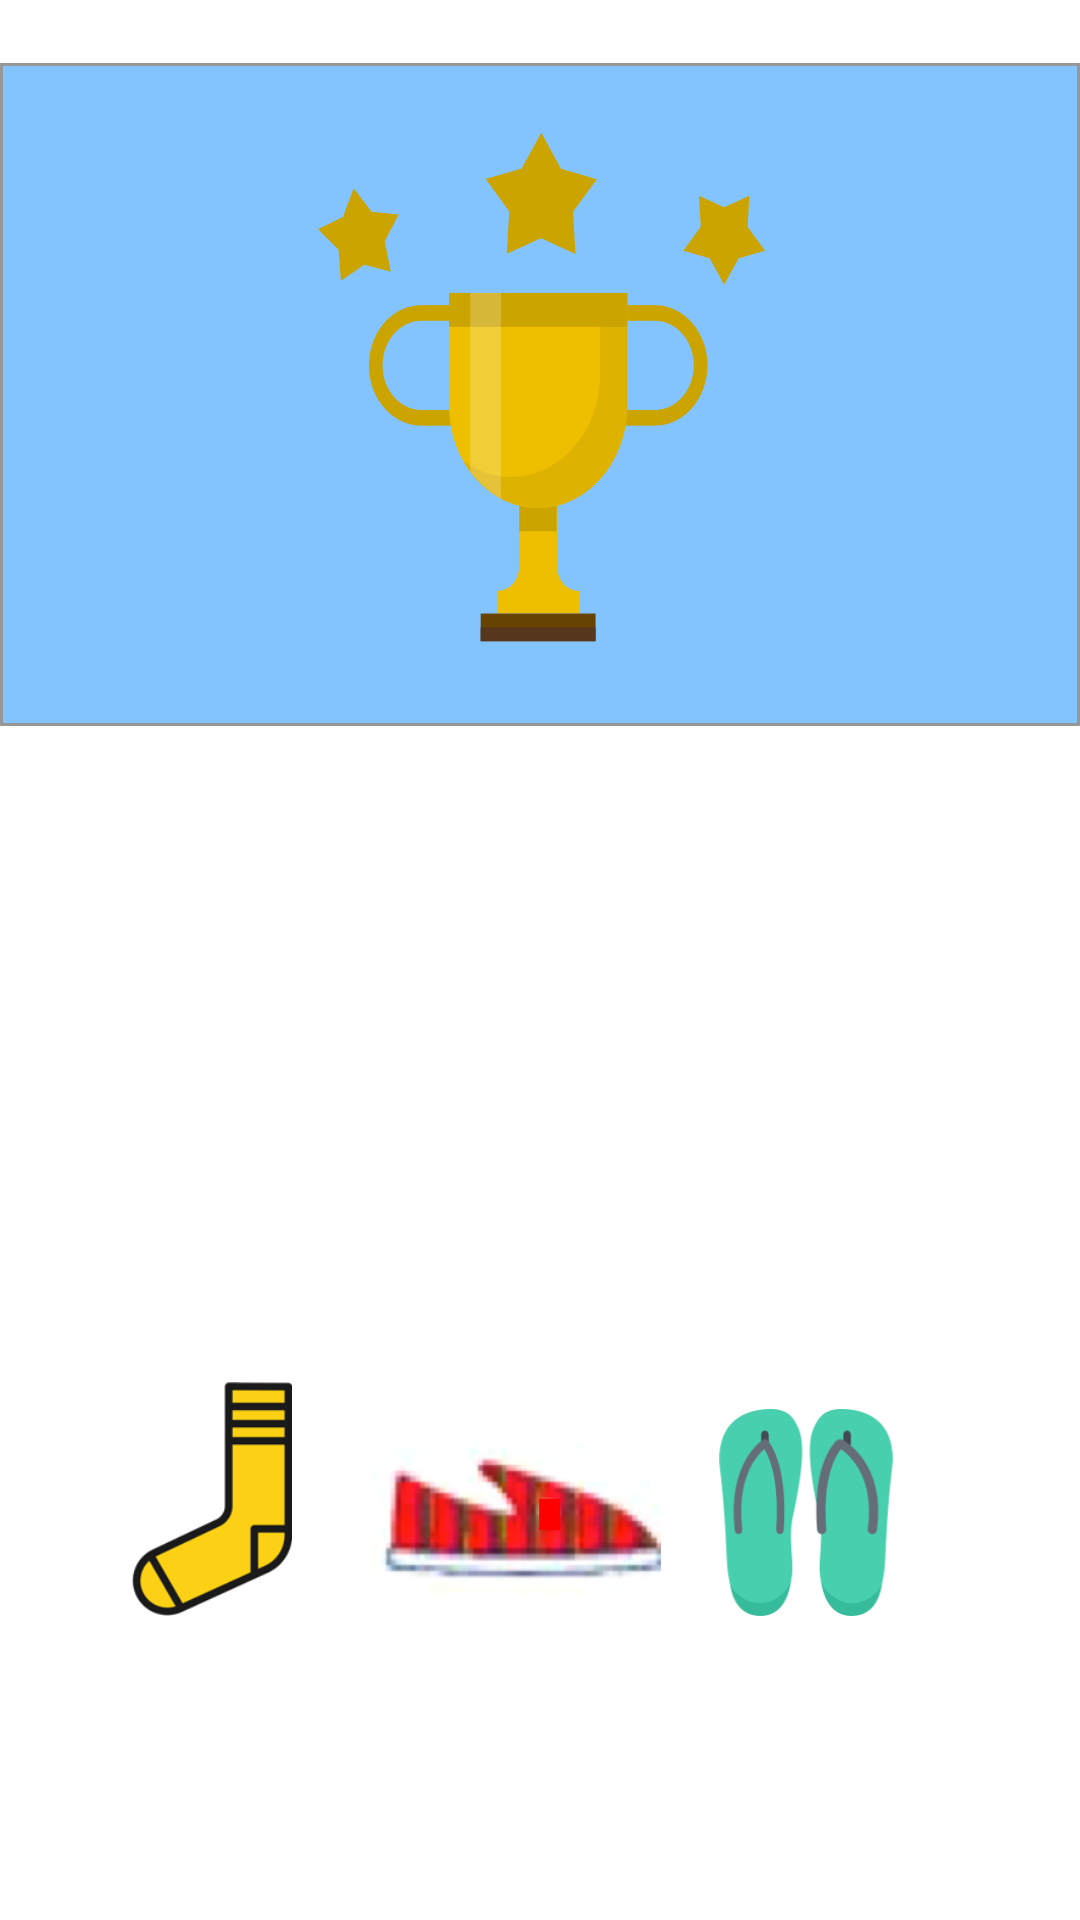

Screen size 1080x1920. Icon name, then its box in pixels as rect(x1, y1, x2, y2):
flipflops: rect(719, 1409, 893, 1616)
slipperss: rect(384, 1458, 661, 1578)
socks: rect(132, 1382, 292, 1616)
